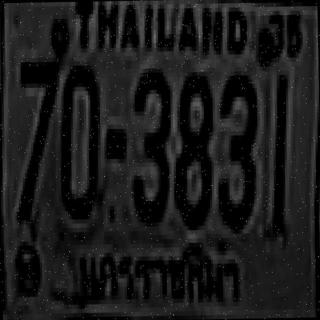N00: (58, 61, 99, 215)
N01: (268, 72, 287, 230), (270, 72, 288, 230)
N03: (214, 71, 256, 225), (130, 64, 170, 218)
N07: (15, 57, 60, 220)
N08: (172, 70, 212, 224)
